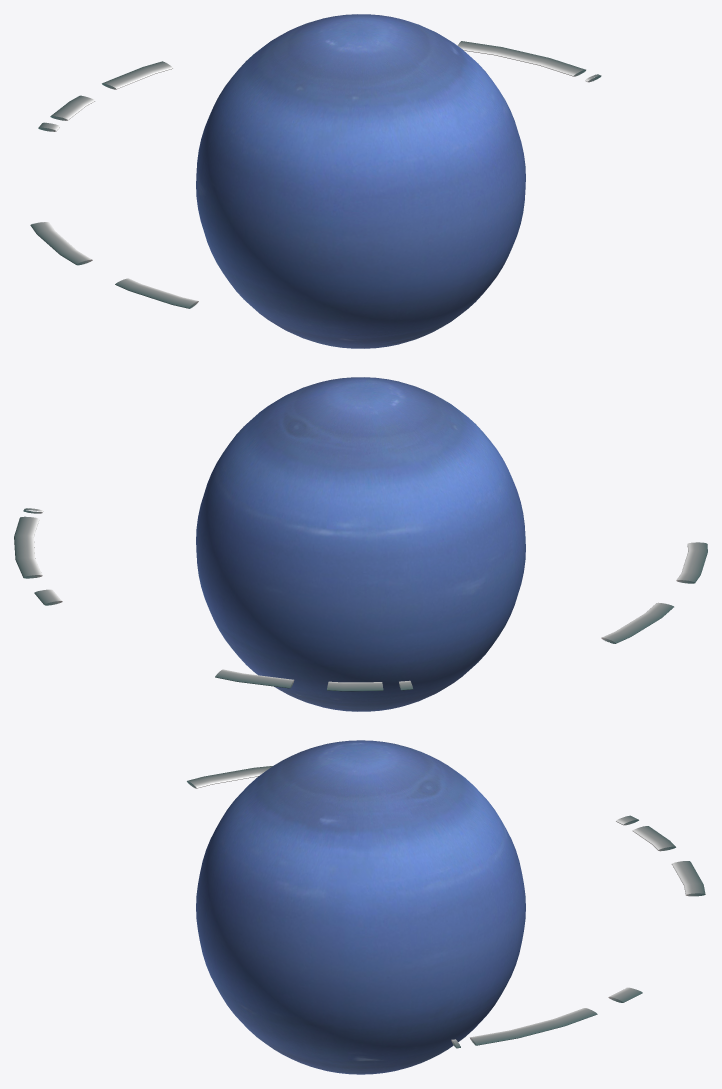
The model's file is Neptune.fbx.
3 views of the same model, one above another, from view 1: azimuth 30°, elevation 25°; view 2: azimuth 150°, elevation 25°; view 3: azimuth 270°, elevation 25° (orthographic).
Parts seen in each view (by area): view 1: polyToSubd3, polyToSubd1; view 2: polyToSubd3, polyToSubd1; view 3: polyToSubd3, polyToSubd1.
Boxes of the visible parts, <box> form: polyToSubd3: <box>196,14,525,348</box>; polyToSubd1: <box>30,41,601,308</box>; polyToSubd3: <box>196,377,525,711</box>; polyToSubd1: <box>14,508,707,691</box>; polyToSubd3: <box>196,740,525,1074</box>; polyToSubd1: <box>187,766,705,1048</box>.
Size of the model in its own units: 601 by 291 by 601.
Materials: 2 (2 with a texture image).
